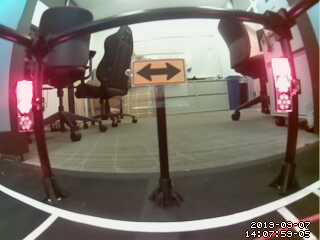Left_Right_sign: (133, 59, 185, 82)
Traffic_light_red: (271, 60, 296, 112), (18, 82, 35, 130)
